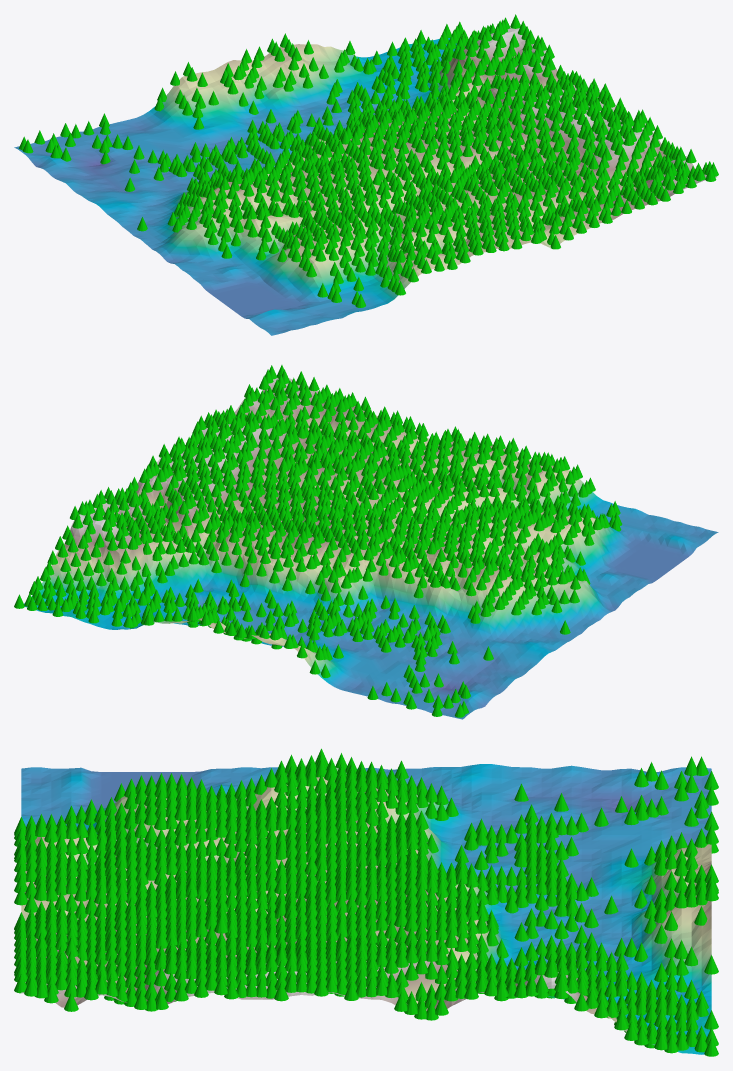
File: 000958_with_tree.glb
3 renders of one model, top to bottom at view 1: azimuth 30°, elevation 25°; view 2: azimuth 150°, elevation 25°; view 3: azimuth 270°, elevation 25°, orthographic. The views are drawn at different scales.
Visible parts, largest first — view 1: trees, terrain; view 2: trees, terrain; view 3: trees, terrain.
Boxes of the visible parts, bbox=[...] form: trees: bbox=[19, 14, 718, 307]; terrain: bbox=[14, 28, 716, 335]; trees: bbox=[14, 365, 622, 717]; terrain: bbox=[24, 375, 718, 719]; trees: bbox=[14, 748, 718, 1056]; terrain: bbox=[21, 764, 711, 1054].
Bounding box in the file's own units: 0.0188 × 0.00289 × 0.019.
